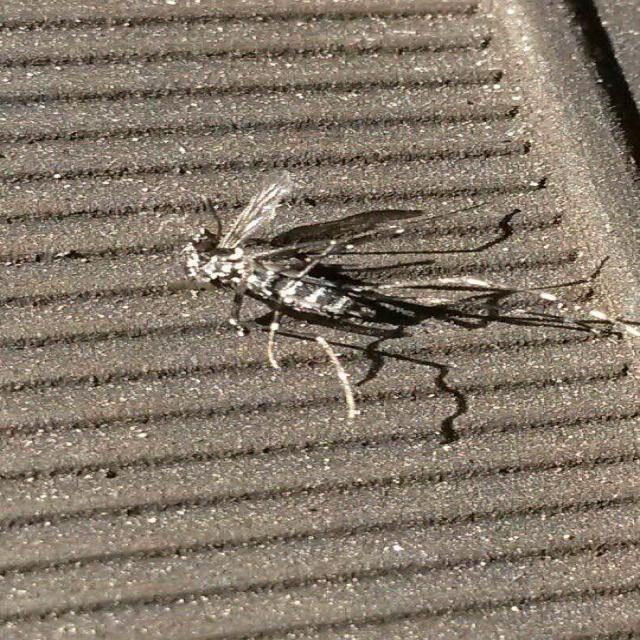albopictus: (87, 182, 621, 430)
